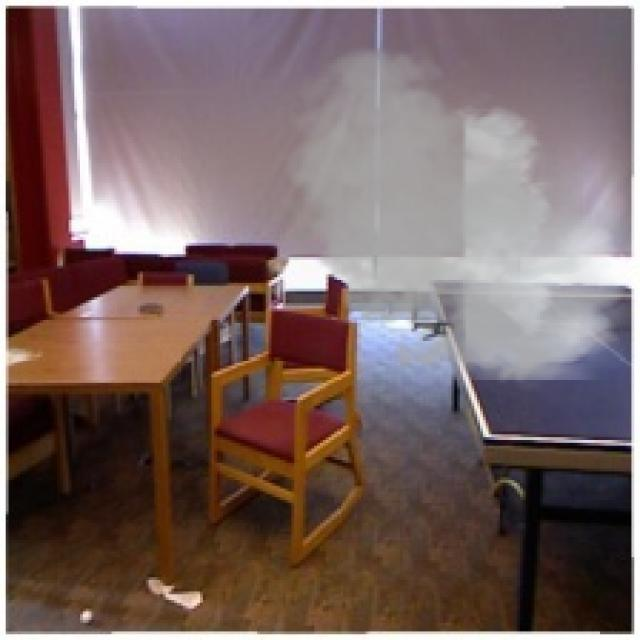smoke: (272, 40, 637, 394)
